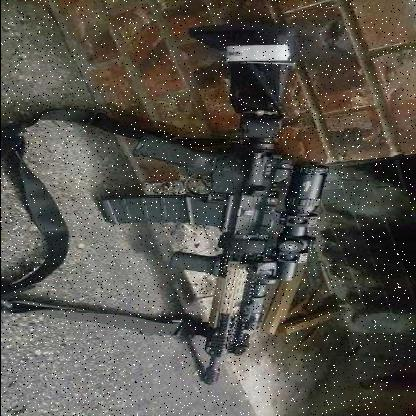rifle: (73, 16, 351, 399)
